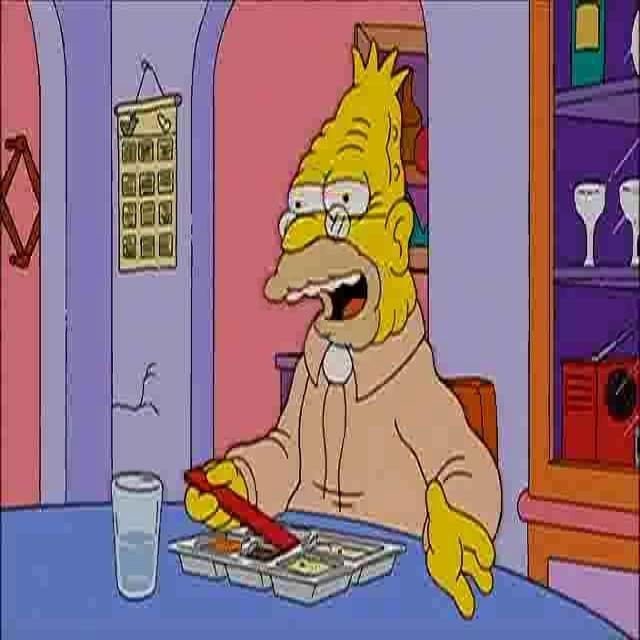Abraham Grampa Simpson: (260, 36, 420, 352)
